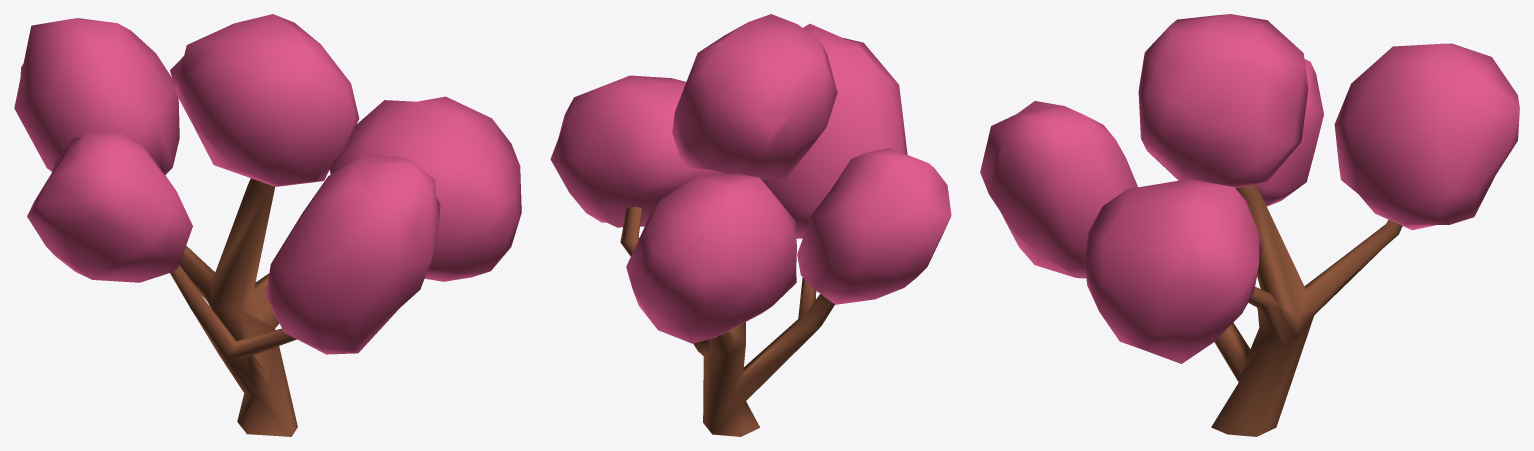
The model's file is Tree_3.fbx.
The picture shows the model from 3 angles, left to right: view 1: azimuth 30°, elevation 25°; view 2: azimuth 150°, elevation 25°; view 3: azimuth 270°, elevation 25°; orthographic projection. The views are drawn at different scales.
Visible parts, largest first — view 1: Tree_3; view 2: Tree_3; view 3: Tree_3.
Part boxes in pixels (<box>): Tree_3: <box>14,14,521,436</box>; Tree_3: <box>550,14,951,436</box>; Tree_3: <box>980,14,1519,436</box>.
Size of the model in its own units: 309 by 275 by 341.
